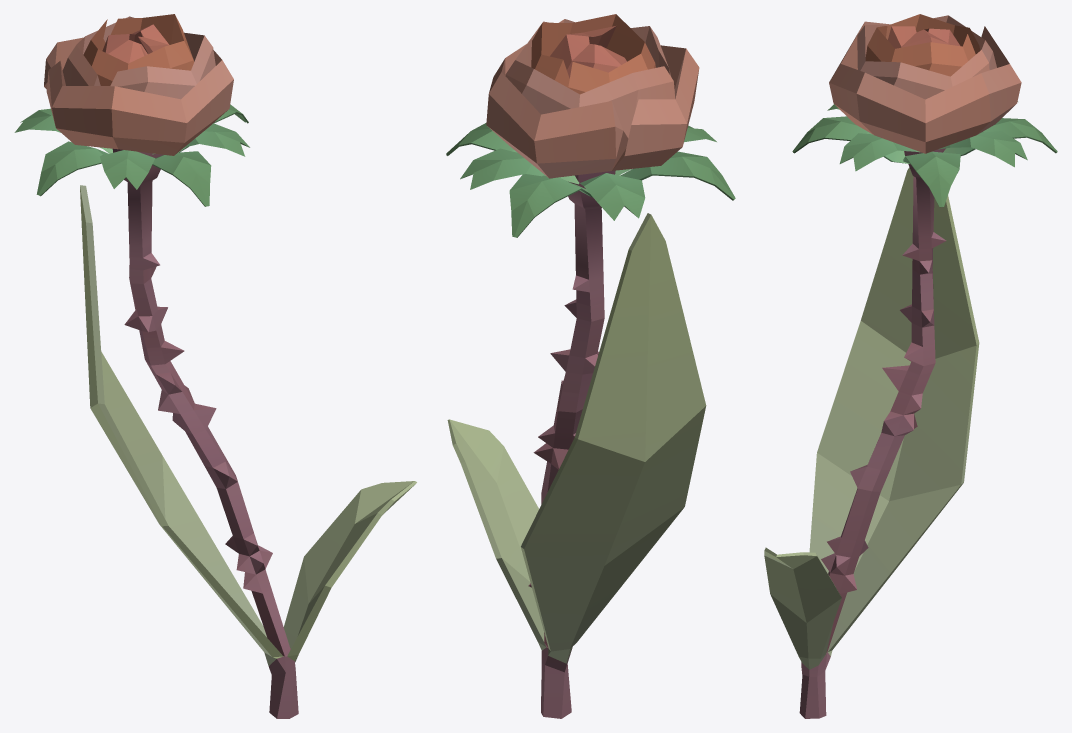
File: Rose_Salmon.fbx
3 views of the same model, side by side, from view 1: azimuth 30°, elevation 25°; view 2: azimuth 150°, elevation 25°; view 3: azimuth 270°, elevation 25° (orthographic). The views are drawn at different scales.
Visible parts, largest first — view 1: Rose_Salmon; view 2: Rose_Salmon; view 3: Rose_Salmon.
Boxes of the visible parts, bbox=[...] form: Rose_Salmon: bbox=[14, 14, 416, 718]; Rose_Salmon: bbox=[446, 14, 735, 718]; Rose_Salmon: bbox=[764, 14, 1057, 718].
Size of the model in its own units: 25.08 by 50.38 by 20.65.
